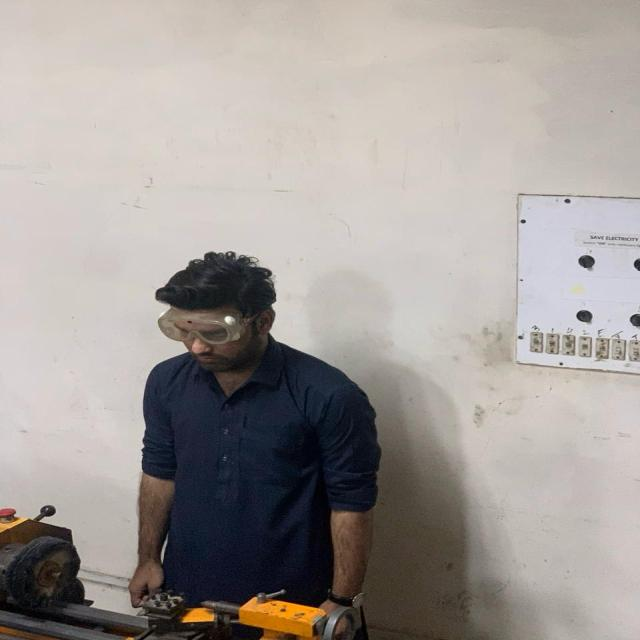googles: (155, 306, 241, 346)
